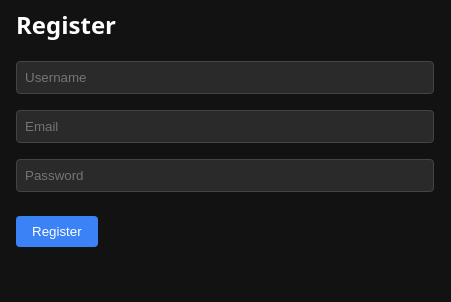
Test case: Register › shows fallback error message when server error has no response body
The image size is (451, 302).
Type "alice" into the field with placeholder "Username" at (225, 77), box left=16, top=61, right=434, bottom=94
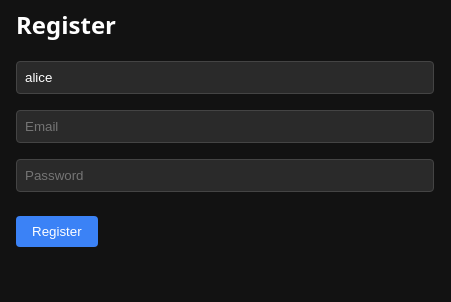
Type "alice@test.com" into the field with placeholder "Email" at (225, 126), box left=16, top=110, right=434, bottom=143
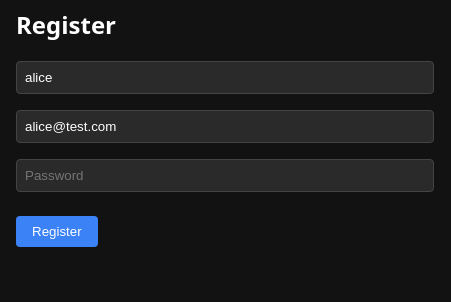
Type "pass123" into the password field with placeholder "Password" at (225, 175), box left=16, top=159, right=434, bottom=192
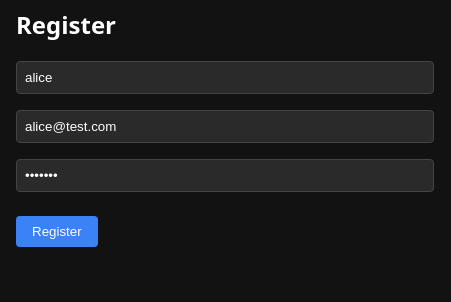
Click the button "Register" at (57, 231), box left=16, top=216, right=98, bottom=247
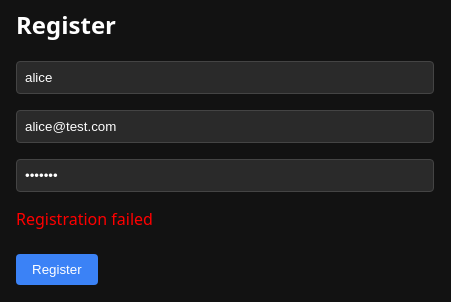
Now the text "Registration failed" is shown, box left=16, top=208, right=153, bottom=230
